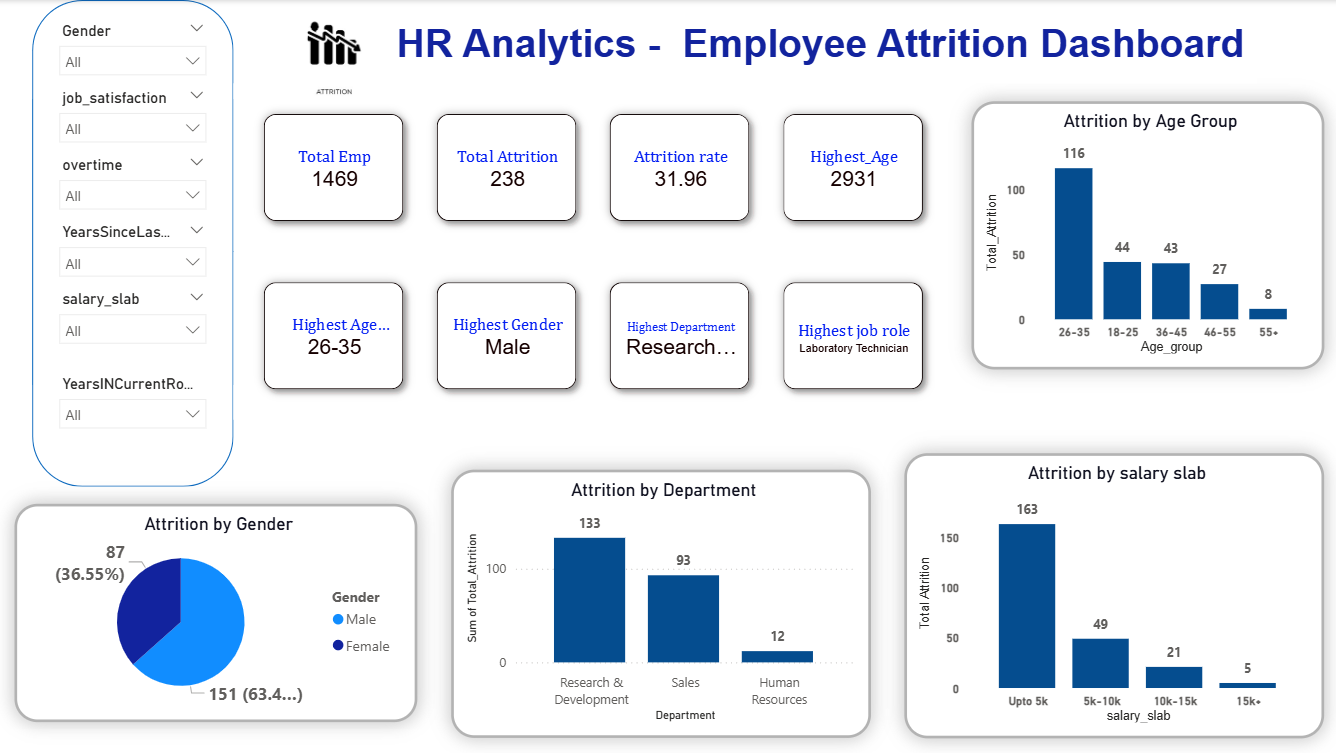

Layout of this report page (visuals, bound fields, positions):
{"tool":"powerbi","page":{"name":"Dashboard 1","canvas":[1280,720],"ordinal":1},"visuals":[{"type":"shape","box":[32,0,192,464],"z":0},{"type":"slicer","fields":{"Values":["job_satisfaction_attrition.job_satisfaction"]},"box":[48,80,160,64],"z":1000},{"type":"slicer","fields":{"Values":["overtime_attrition.overtime"]},"box":[48,144,160,64],"z":2000},{"type":"slicer","fields":{"Values":["Gender_attrition.Gender"]},"box":[48,16,160,64],"z":3000},{"type":"cardVisual","fields":{"Data":["Sum(Kpi_total_emp_gender.count(emp_id))","Sum(kpi_Total_attrition_gender.Total_Attrition)","Sum(Kpi_total_attrition_rate_gender.overall_attrition_rate)","Age_attrition.Highest Attrition Age"]},"box":[224,80,688,160],"z":4000},{"type":"cardVisual","fields":{"Data":["employee_attrition_Agegroup_attrition.Highest Attrition Age_Group","Gender_attrition.Highest Attrition Gender","employee_attrition departmet_attrition.Highest Attrition Department","employee_attrition jobrole_attritionn.Highest Attrition role"]},"box":[224,240,688,160],"z":5000},{"type":"clusteredColumnChart","title":"Attrition by Age Group","fields":{"Category":["employee_attrition_Agegroup_attrition.Age_group"],"Y":["Sum(employee_attrition_Agegroup_attrition.Total_Attrition)"]},"box":[928,96,336,256],"z":6000},{"type":"pieChart","title":"Attrition by Gender","fields":{"Category":["employee_attrition gender_attrition.Gender"],"Y":["Sum(employee_attrition gender_attrition.Total_Attrition)"]},"box":[16,480,384,208],"z":7000},{"type":"columnChart","title":"Attrition by Department","fields":{"Category":["employee_attrition departmet_attrition.Department"],"Y":["Sum(Department_attrition.Total_Attrition)"]},"box":[432,448,400,256],"z":8000},{"type":"clusteredColumnChart","title":"Attrition by salary slab","fields":{"Category":["employee_attrition salary_attrition.salary_slab"],"Y":["Sum(employee_attrition salary_attrition.Total_Attrition)"]},"box":[864,432,400,272],"z":9000},{"type":"image","box":[224,0,192,96],"z":10000},{"type":"textbox","box":[368,16,832,64],"z":11000},{"type":"slicer","fields":{"Values":["promption_attrition.YearsSinceLastPromption"]},"box":[48,208,160,64],"z":12000},{"type":"slicer","fields":{"Values":["salary_attrition.salary_slab"]},"box":[48,272,160,64],"z":13000},{"type":"slicer","fields":{"Values":["currentrole_attrition.YearsINCurrentRole"]},"box":[48,352,160,64],"z":14000}]}

Visuals, with their boxes in screenshot pixels (x1, y1, x2, y2), scaled from the page's 1280x720 canvas onto the 1336x753 screenshot:
shape: 33:0:234:485
slicer - job_satisfaction_attrition.job_satisfaction: 50:84:217:151
slicer - overtime_attrition.overtime: 50:151:217:218
slicer - Gender_attrition.Gender: 50:17:217:84
cardVisual - Sum(Kpi_total_emp_gender.count(emp_id)) x Sum(kpi_Total_attrition_gender.Total_Attrition): 234:84:952:251
cardVisual - employee_attrition_Agegroup_attrition.Highest Attrition Age_Group x Gender_attrition.Highest Attrition Gender: 234:251:952:418
"Attrition by Age Group" clusteredColumnChart: 969:100:1319:368
"Attrition by Gender" pieChart: 17:502:418:720
"Attrition by Department" columnChart: 451:469:868:736
"Attrition by salary slab" clusteredColumnChart: 902:452:1319:736
image: 234:0:434:100
textbox: 384:17:1252:84
slicer - promption_attrition.YearsSinceLastPromption: 50:218:217:284
slicer - salary_attrition.salary_slab: 50:284:217:351
slicer - currentrole_attrition.YearsINCurrentRole: 50:368:217:435
